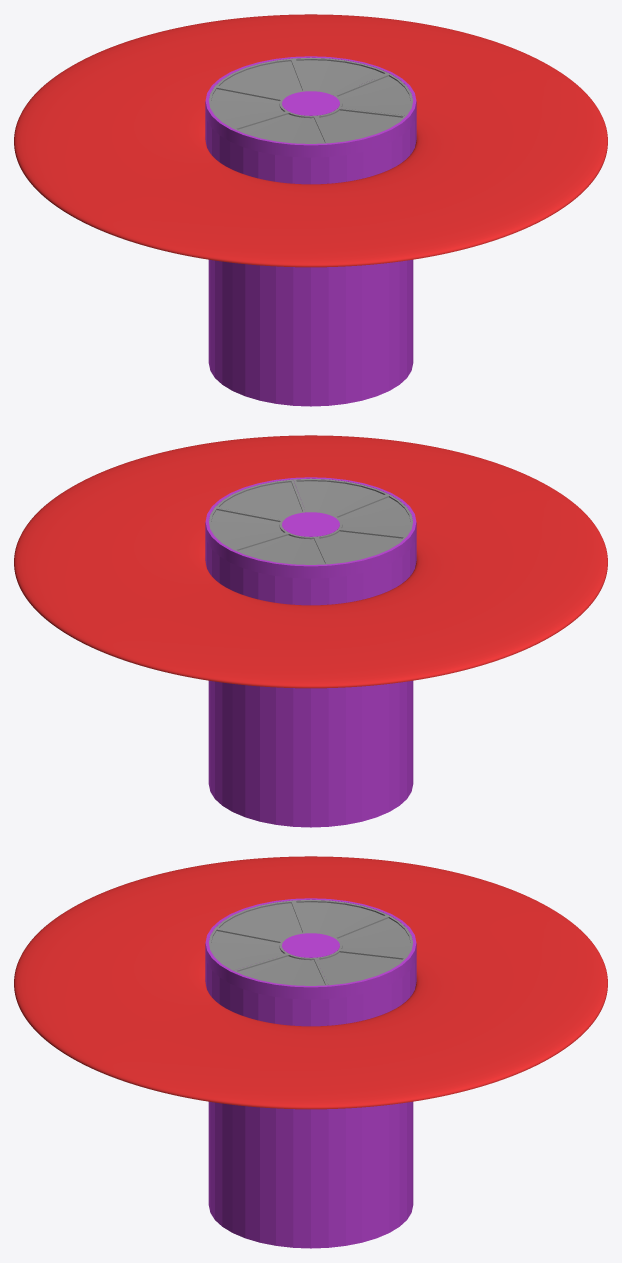
File: ruletaaaaa.FBX
3 renders of one model, top to bottom at view 1: azimuth 30°, elevation 25°; view 2: azimuth 150°, elevation 25°; view 3: azimuth 270°, elevation 25°, orthographic.
Visible parts, largest first — view 1: Object012, Cylinder001, Object002, Object003, Object001, Object004, Object006, Object005; view 2: Object012, Cylinder001, Object006, Object001, Object005, Object002, Object004, Object003; view 3: Object012, Cylinder001, Object004, Object005, Object003, Object006, Object002, Object001.
Part boxes in pixels (<box>): Object012: <box>14,14,607,267</box>; Cylinder001: <box>205,56,416,406</box>; Object002: <box>293,57,388,95</box>; Object003: <box>215,58,305,99</box>; Object001: <box>334,73,412,115</box>; Object004: <box>209,86,288,128</box>; Object006: <box>316,108,406,143</box>; Object005: <box>233,111,327,143</box>; Object012: <box>14,435,607,688</box>; Cylinder001: <box>205,477,416,827</box>; Object006: <box>293,478,388,516</box>; Object001: <box>215,479,305,520</box>; Object005: <box>334,494,412,536</box>; Object002: <box>209,507,288,549</box>; Object004: <box>316,529,406,564</box>; Object003: <box>233,532,328,564</box>; Object012: <box>14,856,607,1109</box>; Cylinder001: <box>205,898,416,1248</box>; Object004: <box>293,899,388,937</box>; Object005: <box>215,900,305,941</box>; Object003: <box>333,915,412,957</box>; Object006: <box>209,928,288,970</box>; Object002: <box>316,950,406,985</box>; Object001: <box>233,953,328,985</box>.
Bounding box in the file's own units: 387 × 188 × 387.
